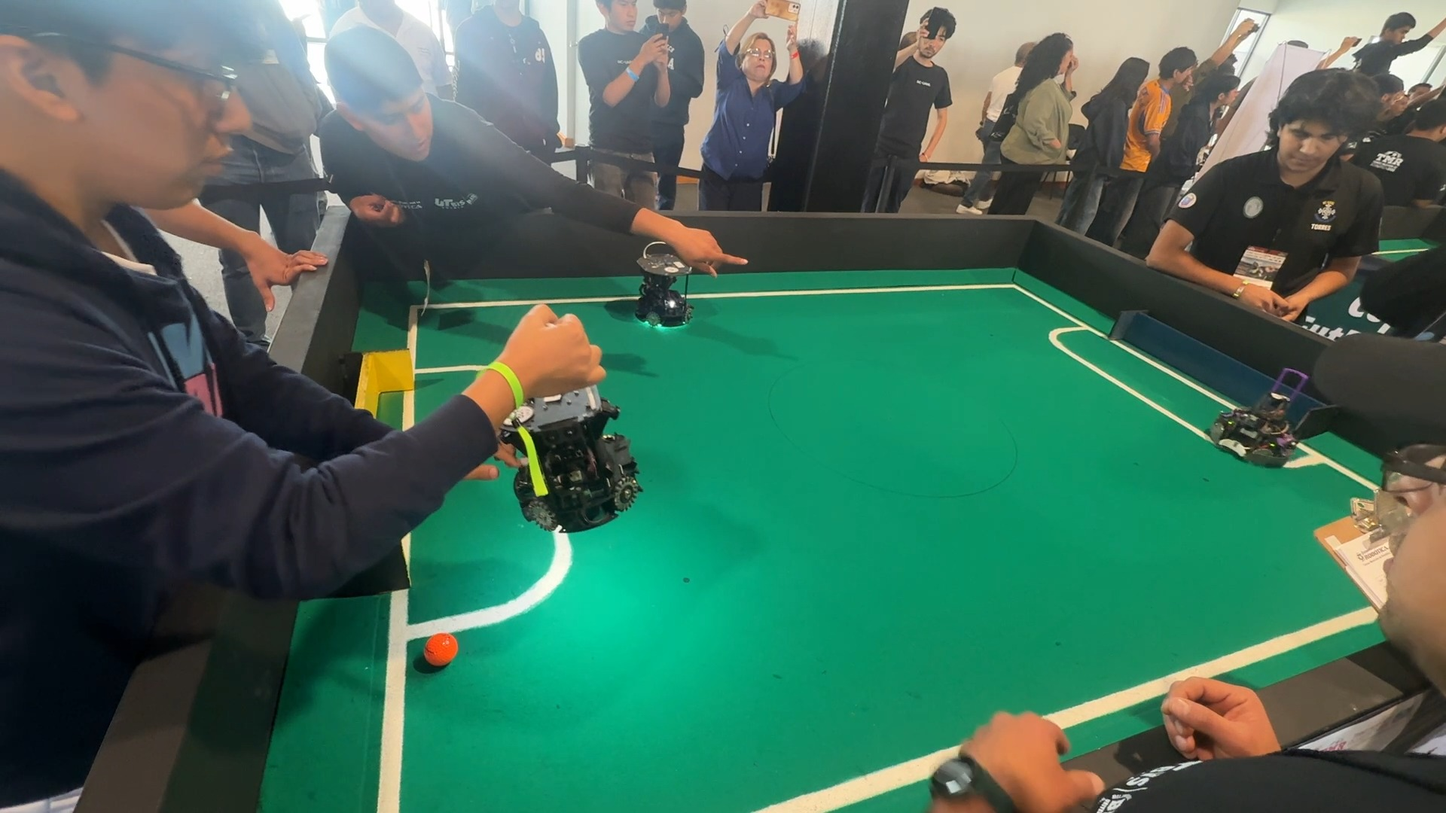Robot: (499, 343, 662, 547), (1200, 355, 1321, 485), (606, 242, 704, 345)
pelota: (413, 631, 462, 677)
